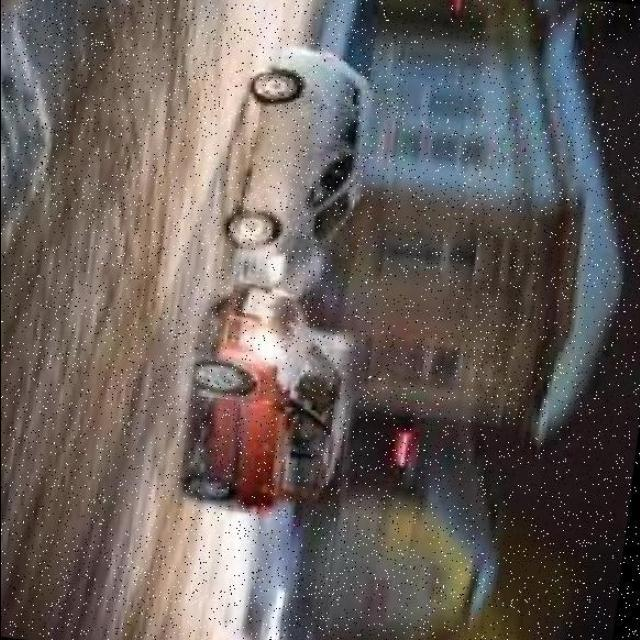accident: (173, 36, 399, 524)
